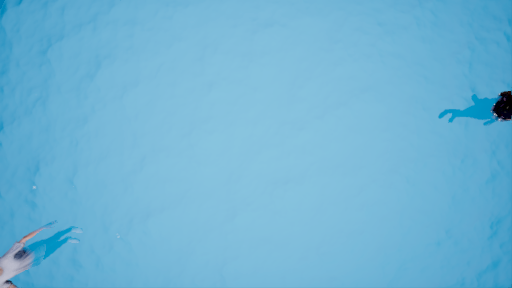person: (1, 224, 93, 288)
